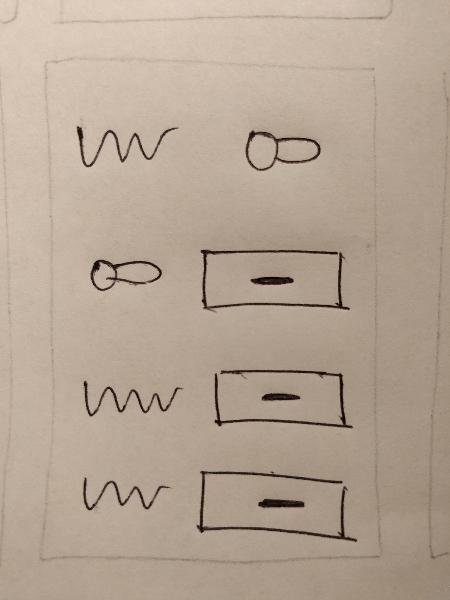button: (193, 464, 367, 546), (194, 242, 360, 317), (205, 363, 360, 439)
switch: (241, 122, 327, 186), (79, 250, 166, 297)
text: (69, 119, 182, 172), (75, 372, 185, 424), (74, 468, 172, 518)
